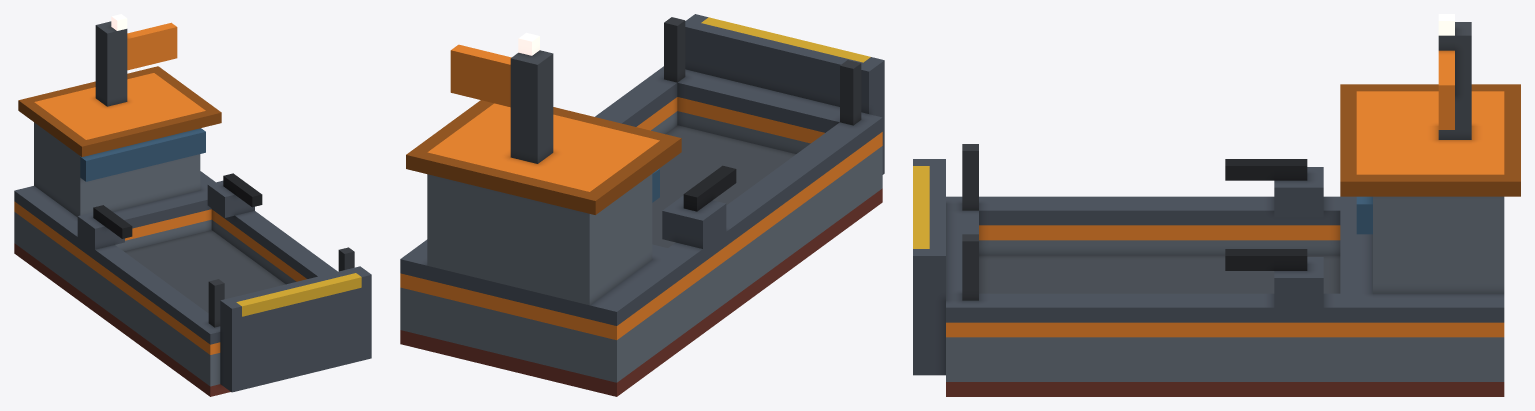
File: cm_transport_5.glb
3 views of the same model, side by side, from view 1: azimuth 30°, elevation 25°; view 2: azimuth 150°, elevation 25°; view 3: azimuth 270°, elevation 25° (orthographic). The views are drawn at different scales.
Visible parts, largest first — view 1: cm_transport_5_body; view 2: cm_transport_5_body; view 3: cm_transport_5_body.
Part boxes in pixels (box(x1,y1,x2,y2)): cm_transport_5_body: box(14, 14, 371, 396); cm_transport_5_body: box(400, 14, 884, 396); cm_transport_5_body: box(913, 14, 1520, 396).
Size of the model in its own units: 1 by 1.38 by 2.31.
1 material, 1 textured.
